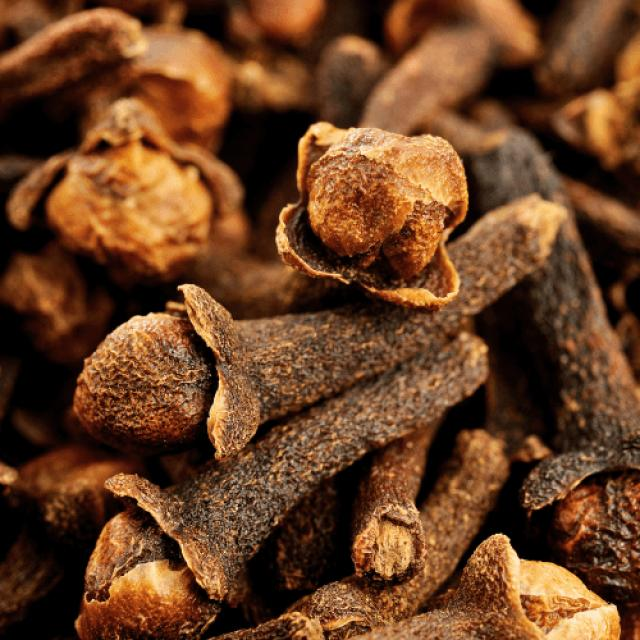clove: (0, 0, 640, 640)
